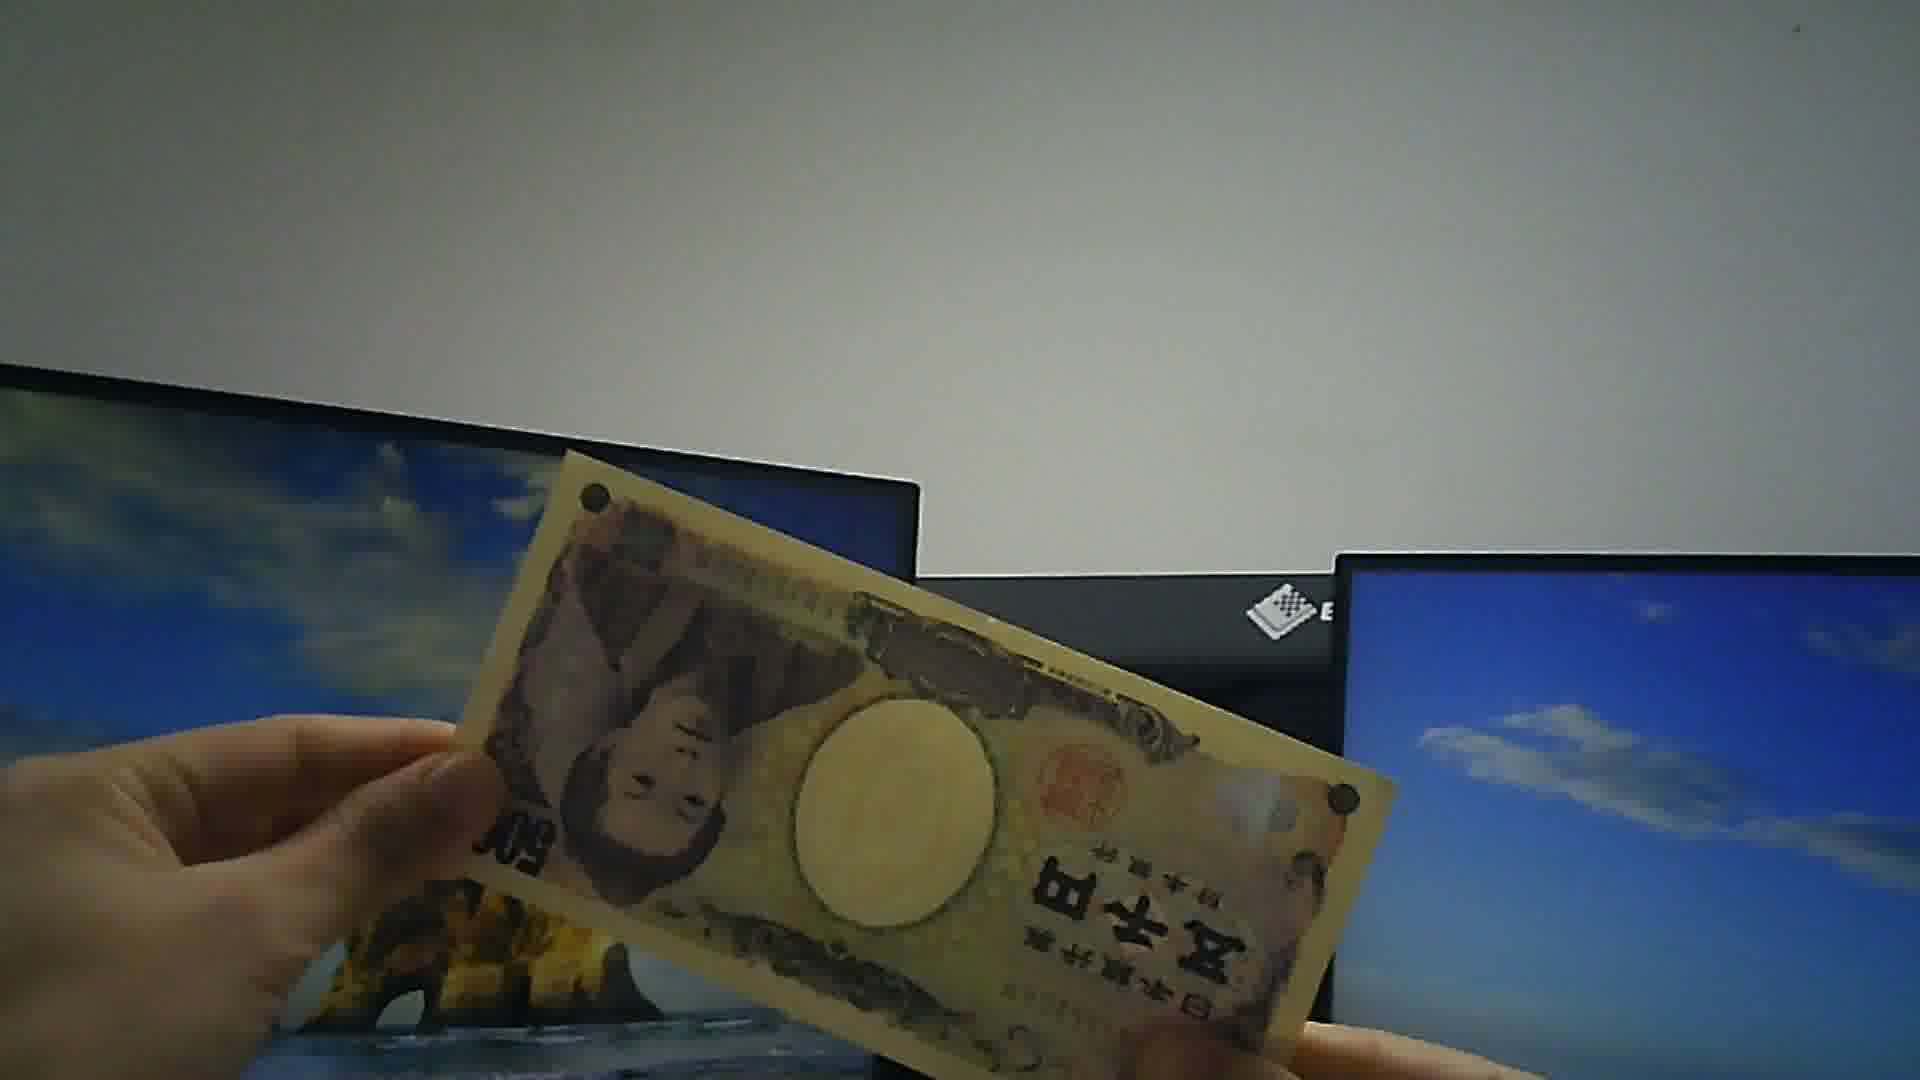5,000 Yen: (407, 450, 1369, 1069)
